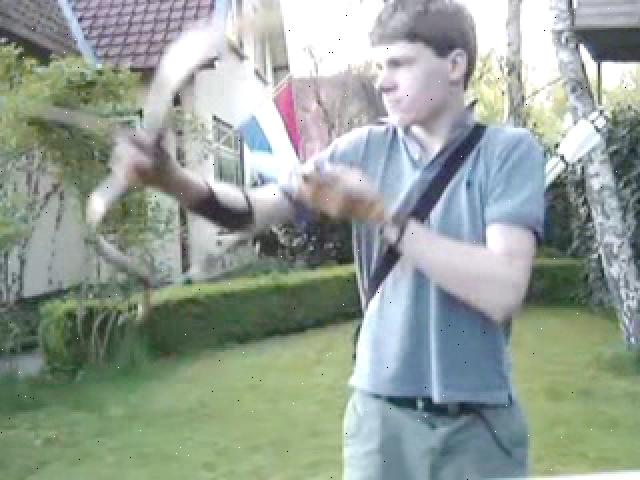P: (110, 4, 542, 477)
